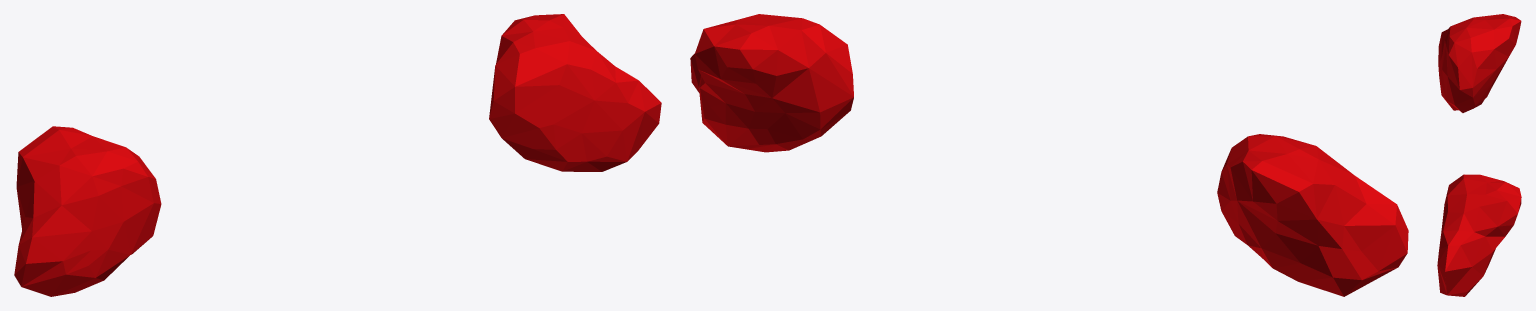
The model's file is 213-VAL(pal)-ventral anterior thalamic nucleus, lateral part, pallidal territory of thalamus-('1.0000', '0.0000', '0.0353').obj.
The picture shows the model from 3 angles, left to right: view 1: azimuth 30°, elevation 25°; view 2: azimuth 150°, elevation 25°; view 3: azimuth 270°, elevation 25°; orthographic projection. The views are drawn at different scales.
Size of the model in its own units: 101 by 19.98 by 15.62.
